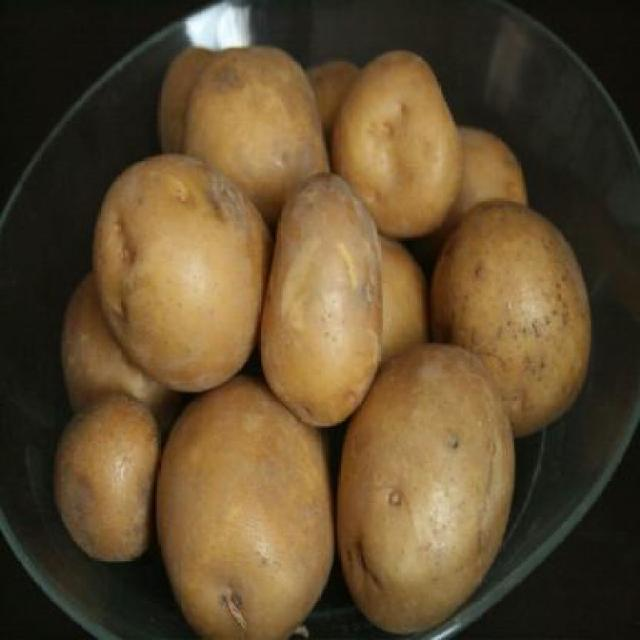Potato: (54, 42, 594, 640), (336, 344, 515, 636)
